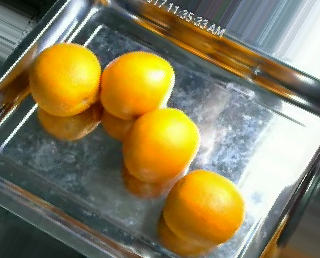Orange: (162, 168, 245, 247), (121, 106, 203, 183), (28, 42, 102, 119), (99, 50, 177, 120)
